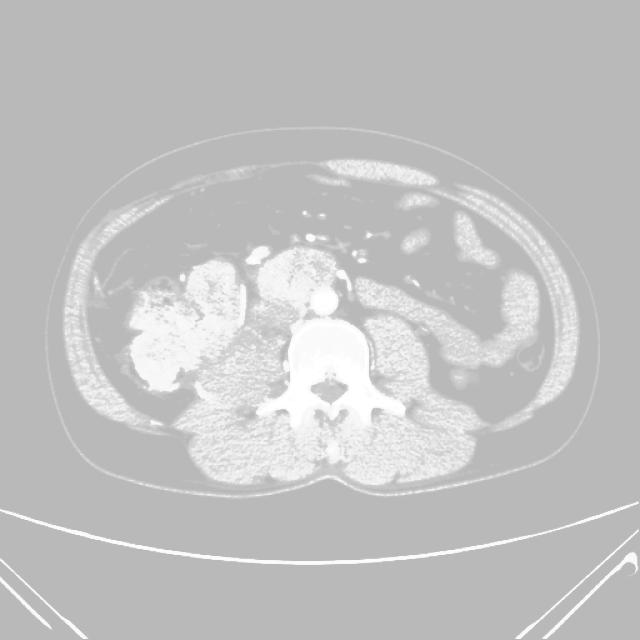TUMOR: (89, 184, 526, 406)
